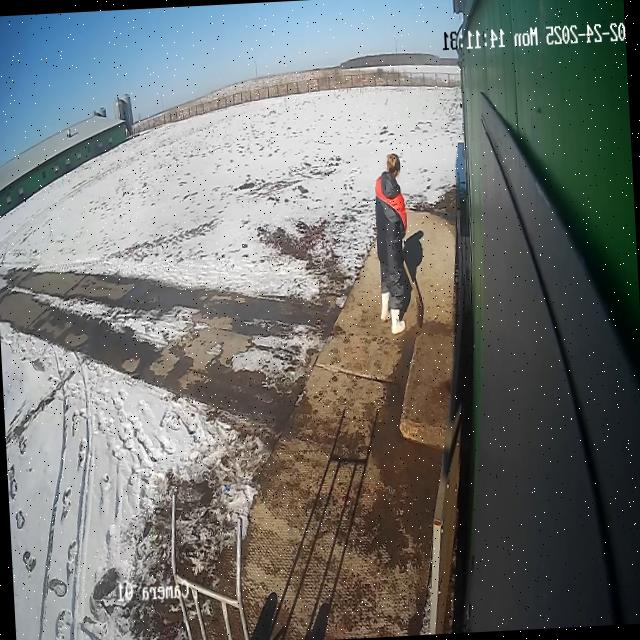Red uniform: (372, 170, 414, 317)
